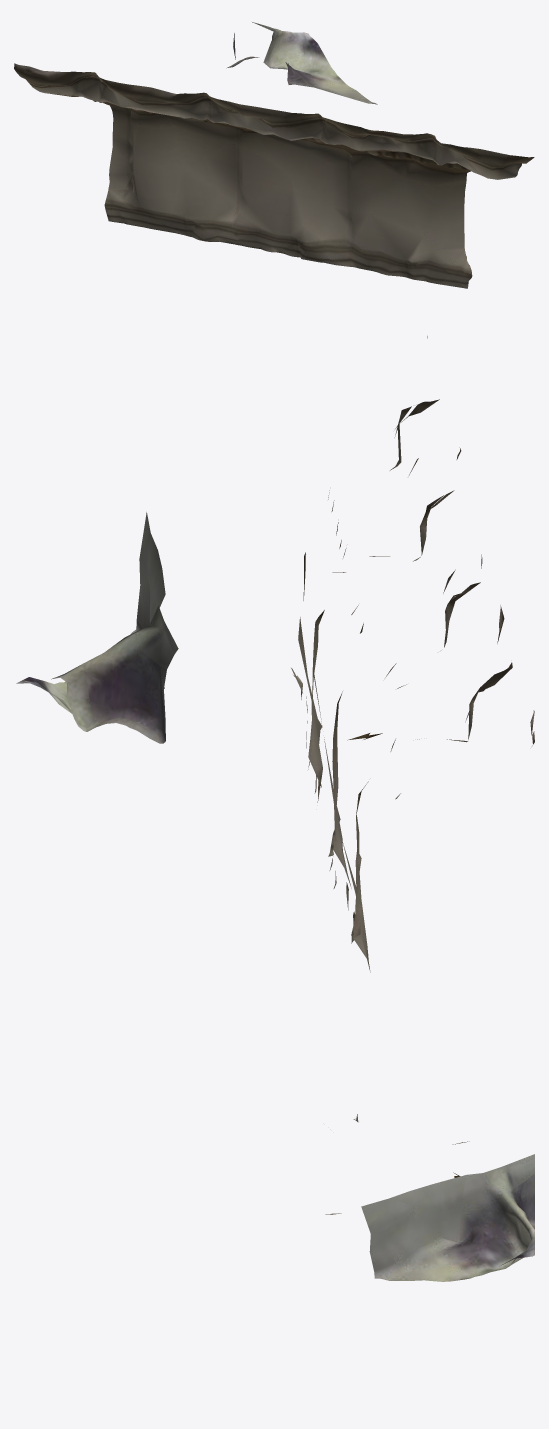
3 views of the same model, one above another, from view 1: azimuth 30°, elevation 25°; view 2: azimuth 150°, elevation 25°; view 3: azimuth 270°, elevation 25° (orthographic). The views are drawn at different scales.
Bounding box in the file's own units: 3.03 × 1.77 × 4.02.
Materials: 1 (1 with a texture image).
